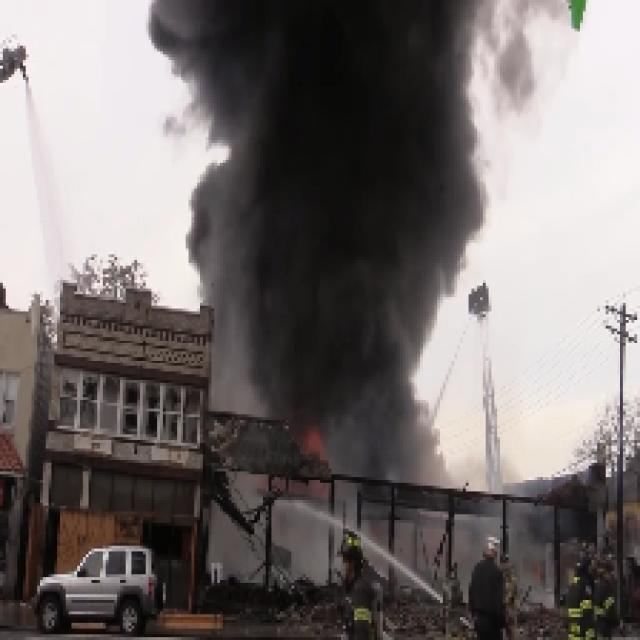Smoke: (177, 3, 466, 420), (474, 3, 562, 123), (328, 428, 448, 486)
